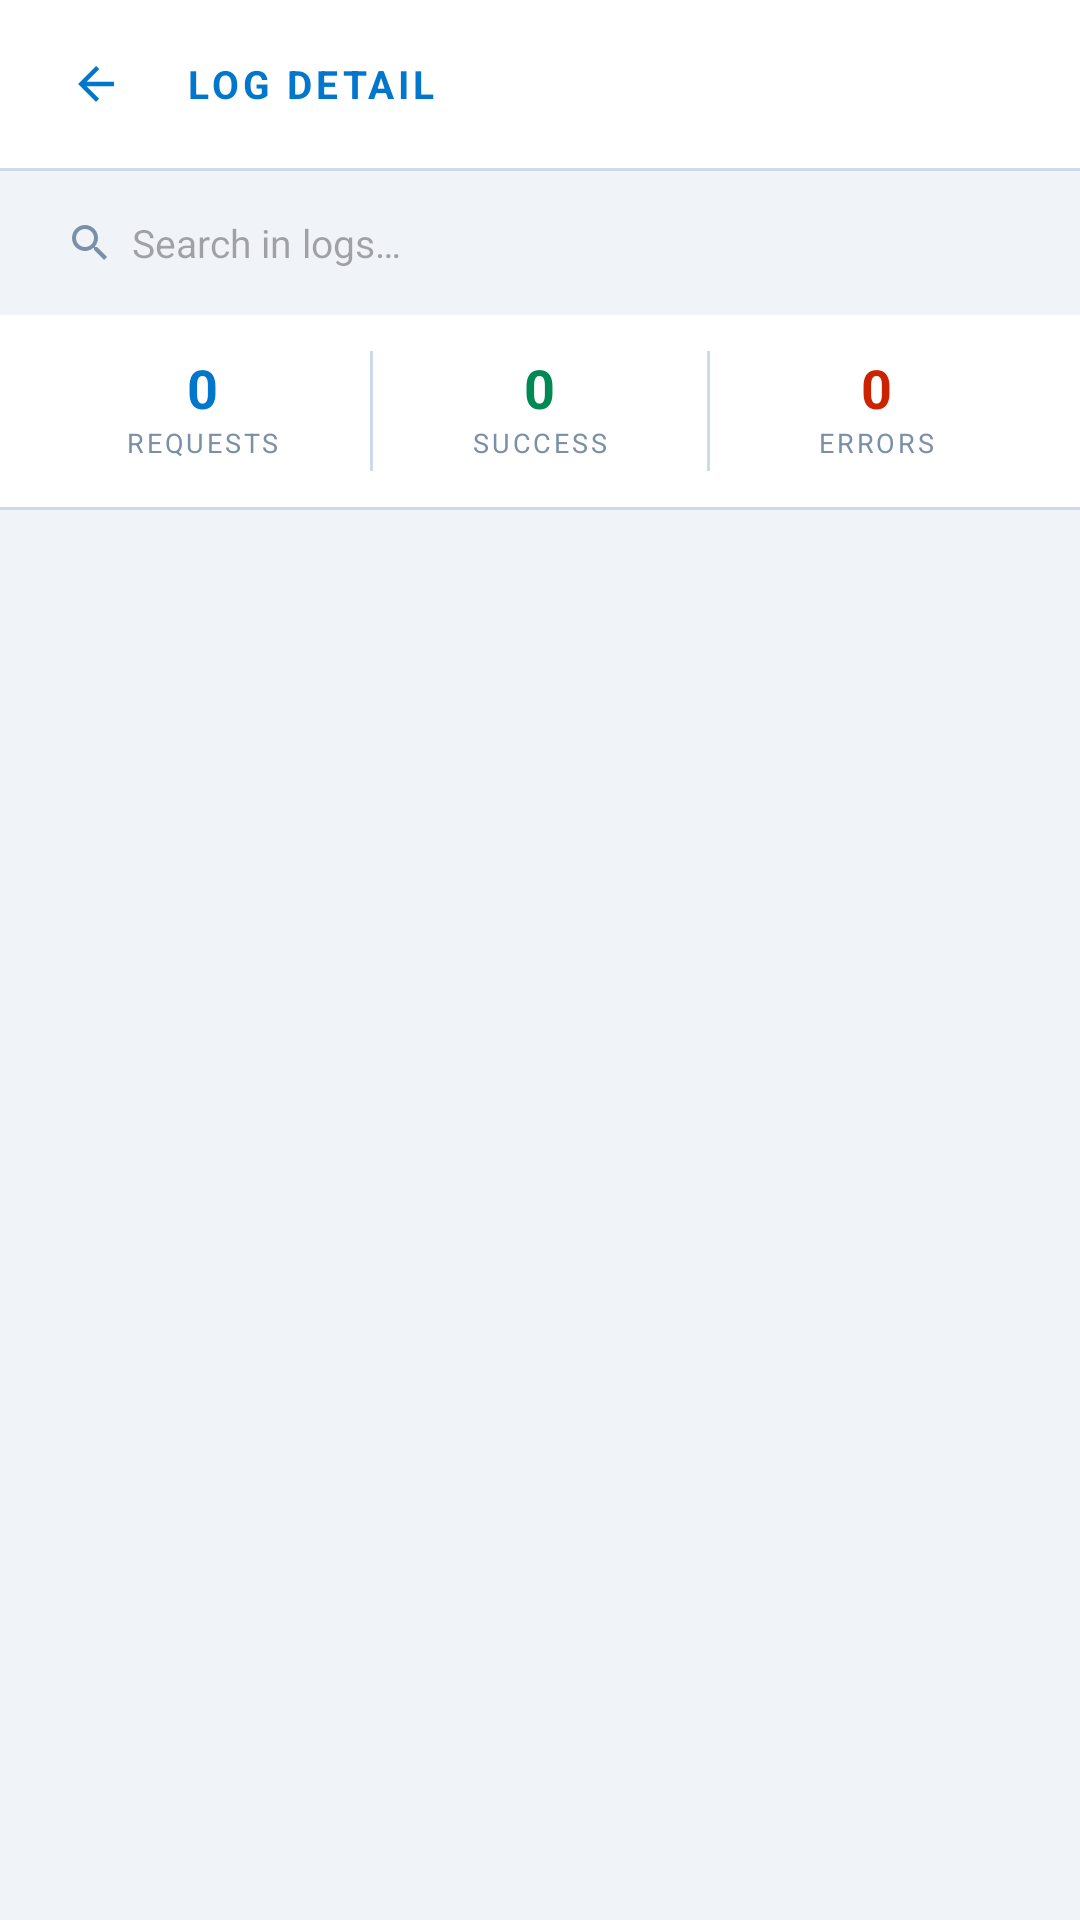

Locate icon controls on the screen. Image size 1080px×1920px, boxes as [x1=x1, y1=y1, x2=x2, y2=y2].
back: [x1=78, y1=66, x2=114, y2=102]
